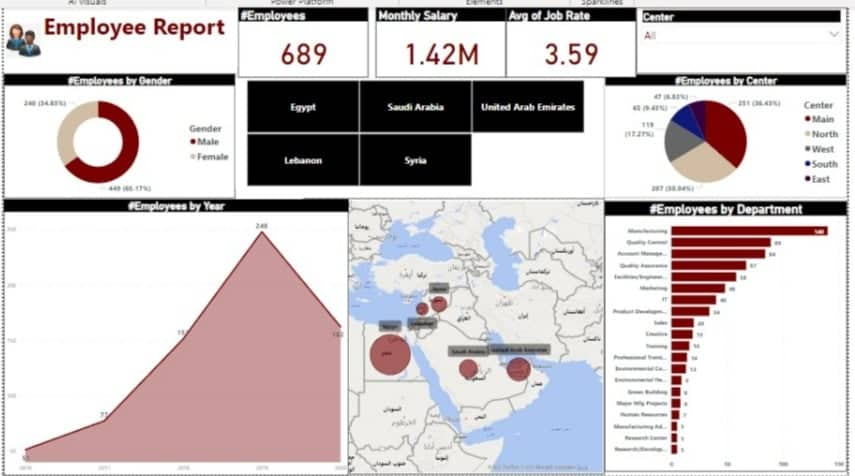

Layout of this report page (visuals, bound fields, positions):
{"tool":"powerbi","page":{"name":"Page 1","canvas":[1800,1000],"ordinal":0},"visuals":[{"type":"clusteredBarChart","title":"#Employees by Department","fields":{"Category":["EmpTable.Department"],"Y":["CountNonNull(EmpTable.No)"]},"box":[1282,414,518,578],"z":0},{"type":"map","fields":{"Category":["EmpTable.Country"],"Size":["CountNonNull(EmpTable.No)"]},"box":[640,408,642,590],"z":1},{"type":"donutChart","fields":{"Category":["EmpTable.Gender"],"Y":["CountNonNull(EmpTable.No)"]},"box":[0,142,494,266],"z":2},{"type":"pieChart","fields":{"Category":["EmpTable.Center"],"Y":["CountNonNull(EmpTable.No)"]},"box":[1282,142,518,264],"z":3},{"type":"areaChart","title":"#Employees by Year","fields":{"Y":["CountNonNull(EmpTable.No)"],"Category":["EmpTable.Start Date.Variation.Date Hierarchy.Year","EmpTable.Start Date.Variation.Date Hierarchy.Month"]},"box":[0,410,736,590],"z":4},{"type":"slicer","fields":{"Values":["EmpTable.Country"]},"box":[494,150,768,238],"z":5},{"type":"card","title":"#Employees","fields":{"Values":["CountNonNull(EmpTable.No)"]},"box":[500,0,294,150],"z":6},{"type":"card","title":"Monthly Salary","fields":{"Values":["Sum(EmpTable.Monthly Salary)"]},"box":[794,0,278,150],"z":7},{"type":"card","title":"Avg of Job Rate","fields":{"Values":["Avg(EmpTable.Job Rate)"]},"box":[1072,0,278,150],"z":8},{"type":"slicer","fields":{"Values":["EmpTable.Center"]},"box":[1350,0,450,142],"z":9},{"type":"textbox","box":[0,0,500,126],"z":11},{"type":"image","box":[0,0,84,142],"z":12}]}

Visuals, with their boxes in screenshot pixels (x1, y1, x2, y2):
"#Employees by Department" clusteredBarChart: BBox(601, 201, 843, 471)
map - EmpTable.Country x CountNonNull(EmpTable.No): BBox(300, 198, 601, 474)
donutChart - EmpTable.Gender x CountNonNull(EmpTable.No): BBox(0, 73, 231, 198)
pieChart - EmpTable.Center x CountNonNull(EmpTable.No): BBox(601, 73, 843, 197)
"#Employees by Year" areaChart: BBox(0, 199, 345, 475)
slicer - EmpTable.Country: BBox(231, 77, 591, 188)
"#Employees" card: BBox(234, 7, 372, 77)
"Monthly Salary" card: BBox(372, 7, 502, 77)
"Avg of Job Rate" card: BBox(502, 7, 632, 77)
slicer - EmpTable.Center: BBox(632, 7, 843, 73)
textbox: BBox(0, 7, 234, 66)
image: BBox(0, 7, 39, 73)
